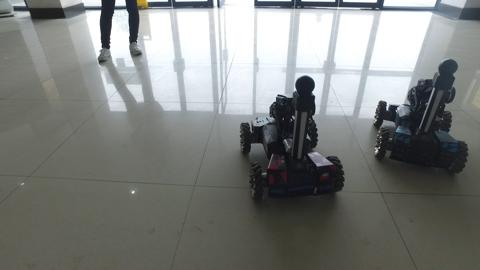chariot: (231, 74, 351, 201), (373, 55, 469, 179)
